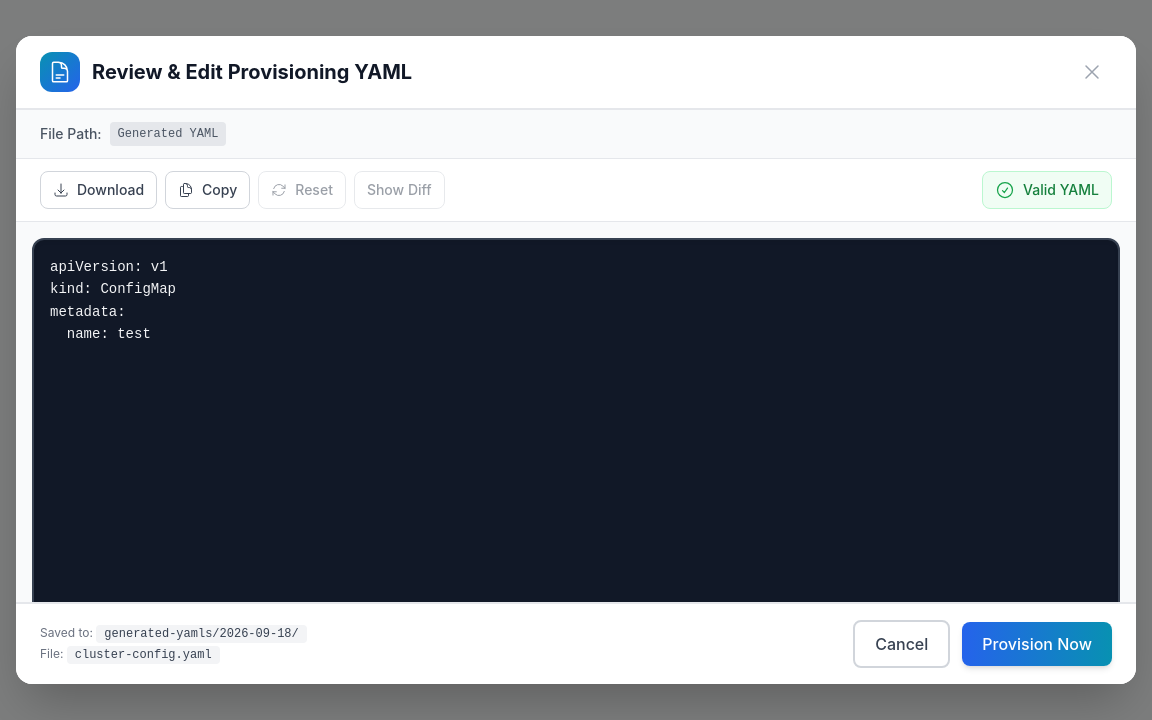
Test: YamlEditorModal › enables reset button when changes are made
The image size is (1152, 720).
Replace the text in the text box with "modified" at (576, 438), box [32,238,1120,638]
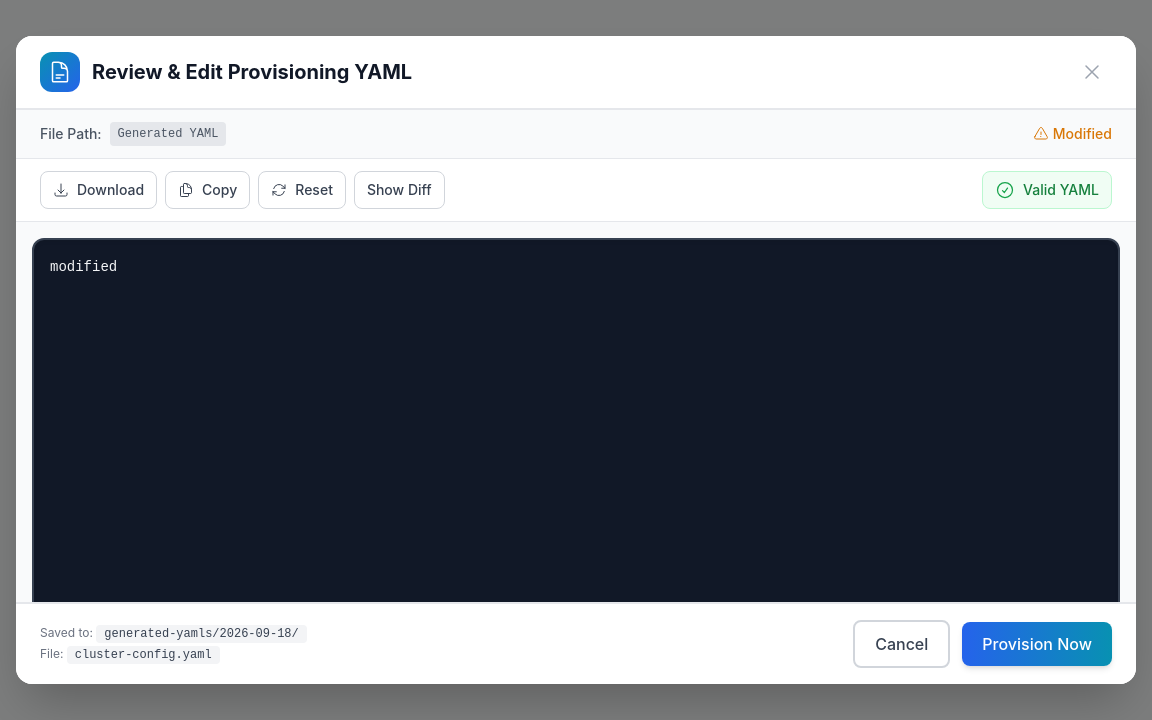
expect the button "Reset" is enabled: met, box [258,171,346,209]
